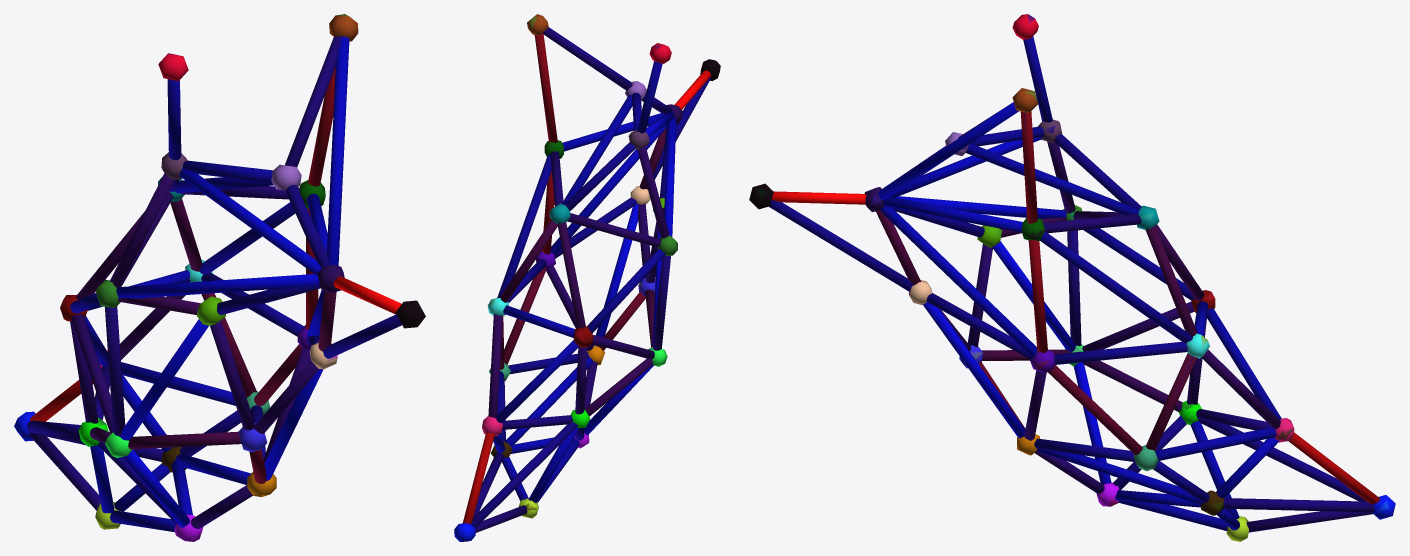
Rendered from penguin_skel.glb.
3 renders of one model, left to right at view 1: azimuth 30°, elevation 25°; view 2: azimuth 150°, elevation 25°; view 3: azimuth 270°, elevation 25°, orthographic. The views are drawn at different scales.
Visible parts, largest first — view 1: 000-fg-gauss-skele; view 2: 000-fg-gauss-skele; view 3: 000-fg-gauss-skele.
Part boxes in pixels (x1=…): 000-fg-gauss-skele: x1=14, y1=14, x2=425, y2=541; 000-fg-gauss-skele: x1=454, y1=14, x2=720, y2=541; 000-fg-gauss-skele: x1=749, y1=14, x2=1395, y2=541.
Size of the model in its own units: 0.0855 by 0.2053 by 0.2411.
Materials: 1 (1 with a texture image).
